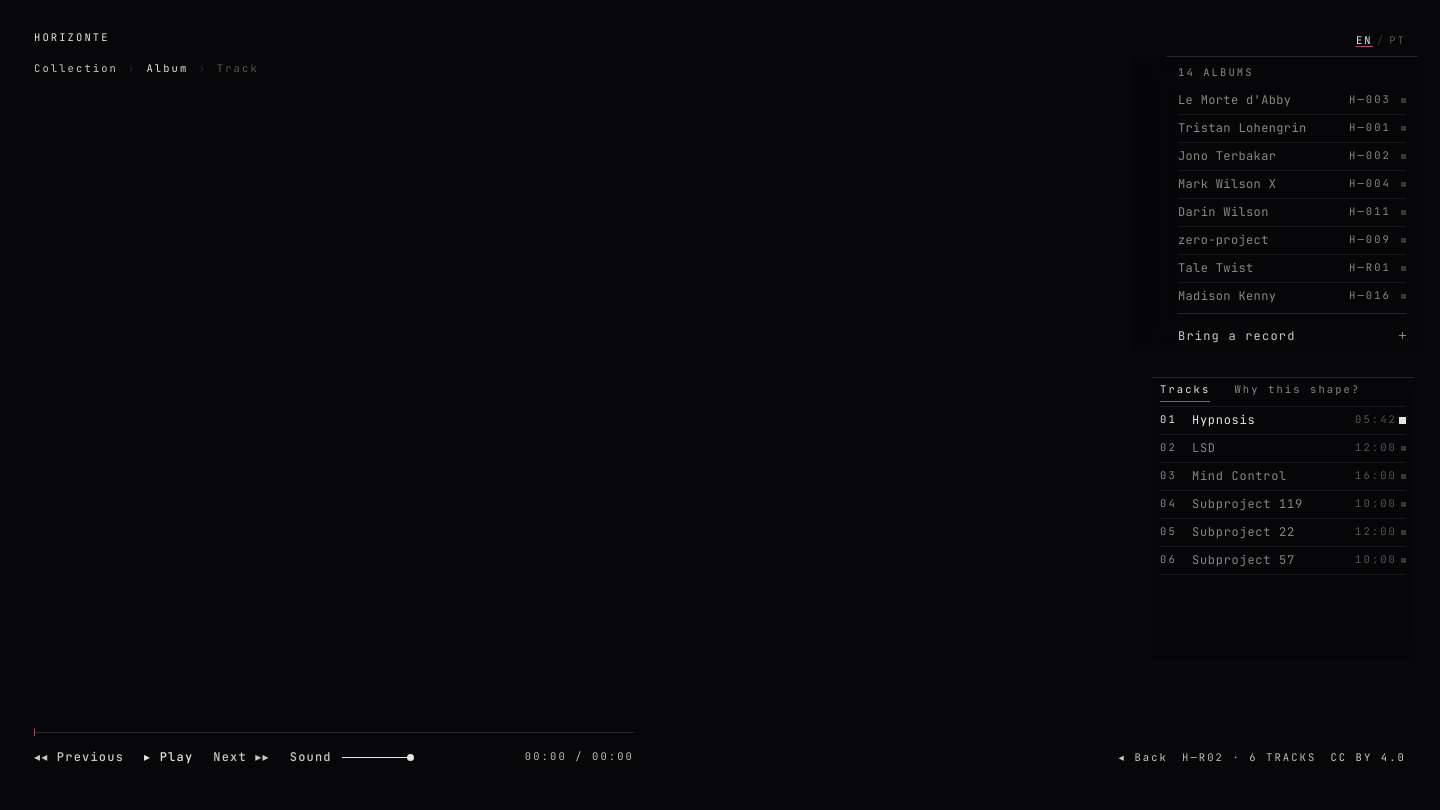
Test: why this shape › a record close to the usual explains itself without an experiment
Click the tab "Why this shape?": (1297, 390) [1234,378,1360,402]
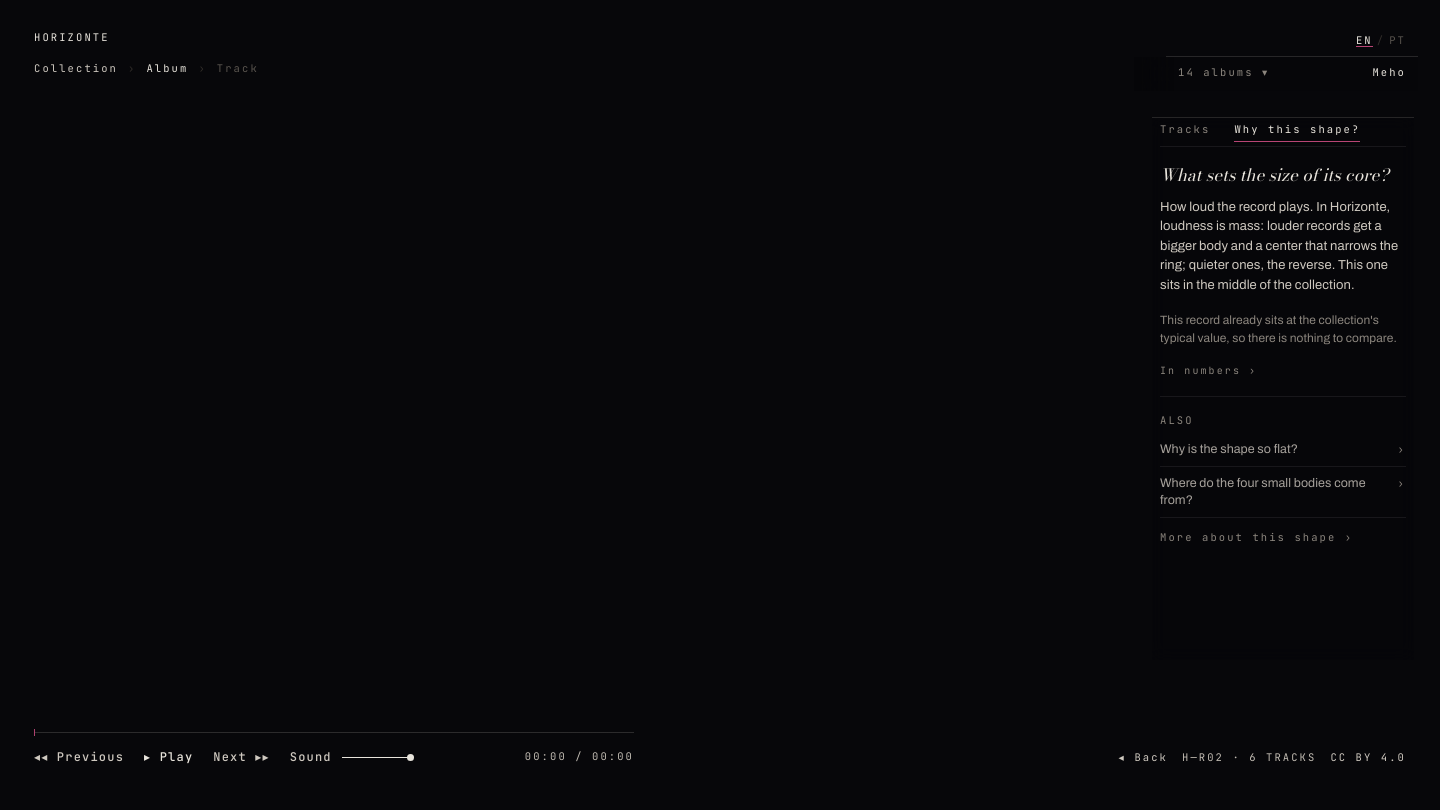
Result: the heading "What sets the size of its core?" is shown at [1160,164,1406,186]
Result: the text "nothing to compare" is shown at [1160,313,1397,345]
